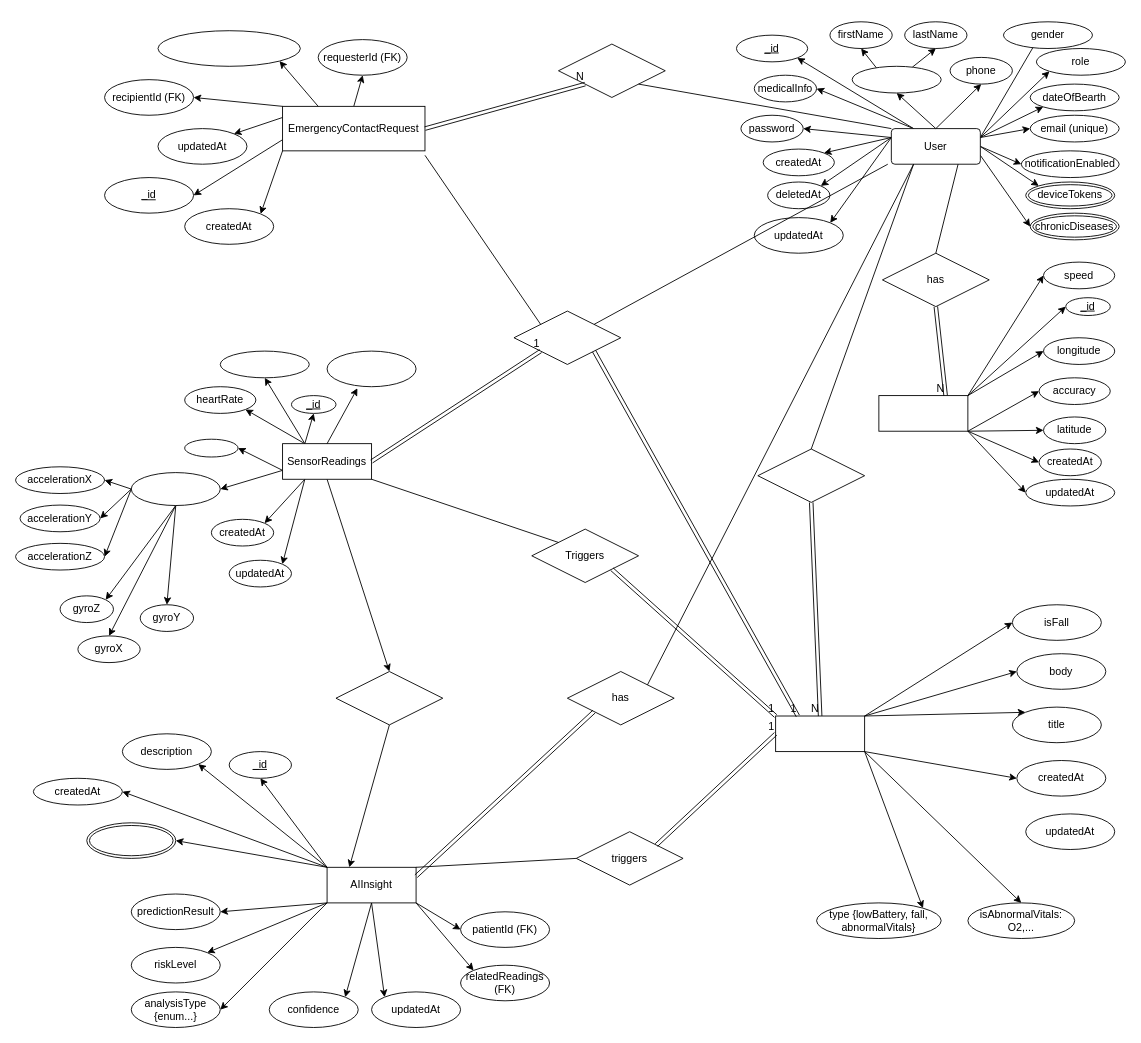
Image size: 1141x1043. Some labels were removed from this diagram. Here are the shapes that lost their labels. From the top down, the centre of each, then its label:
At (228,48): "status {PENDING, ACCEPTED, REJECTED}".
At (611,70): "sends".
At (896,79): "fullname".
At (567,337): "generates".
At (264,364): "activityType".
At (371,368): "fallDetected (boolean)".
At (923,413): "Location".
At (211,447): "spo2".
At (175,489): "motion".
At (811,475): "receives".
At (389,698): "analyzedBy".
At (820,733): "Notification".
At (131,840): "recommendations".
